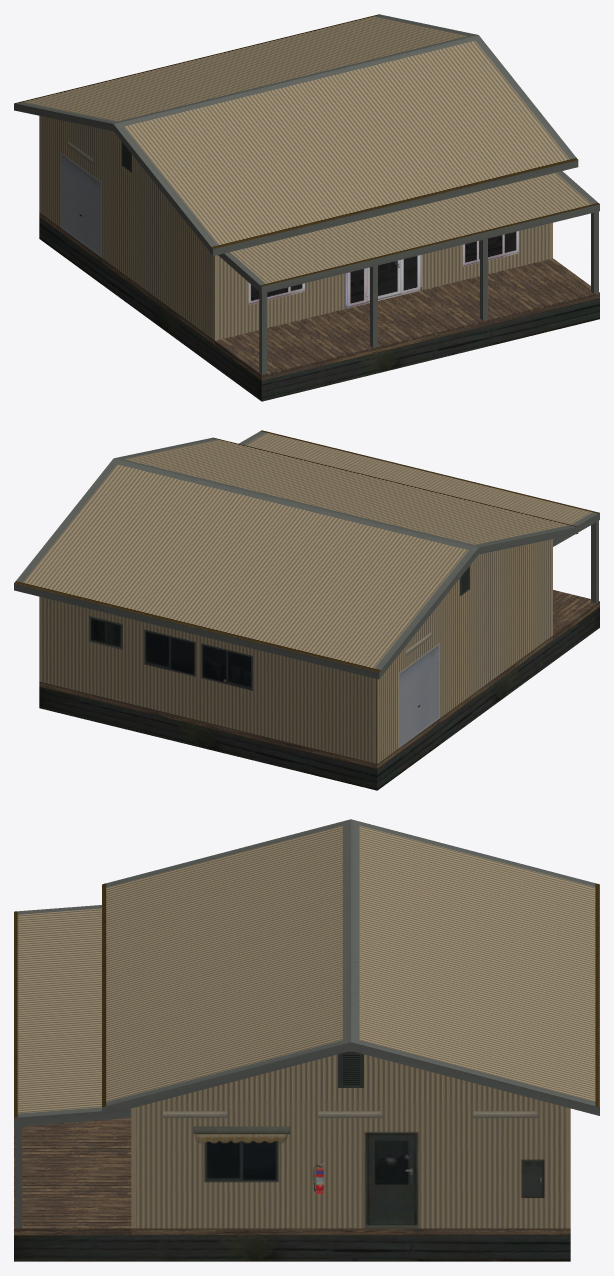
The model's file is terminal-tiny-05-10x10-cbj_LOD00.gltf.
3 views of the same model, one above another, from view 1: azimuth 30°, elevation 25°; view 2: azimuth 150°, elevation 25°; view 3: azimuth 270°, elevation 25° (orthographic). The views are drawn at different scales.
Visible parts, largest first — view 1: Cube; view 2: Cube; view 3: Cube.
Boxes of the visible parts, x1,y1,x2,y2 form: Cube: [14, 14, 599, 401]; Cube: [14, 430, 599, 790]; Cube: [14, 819, 599, 1261].
Size of the model in its own units: 10.8 by 5.15 by 12.
